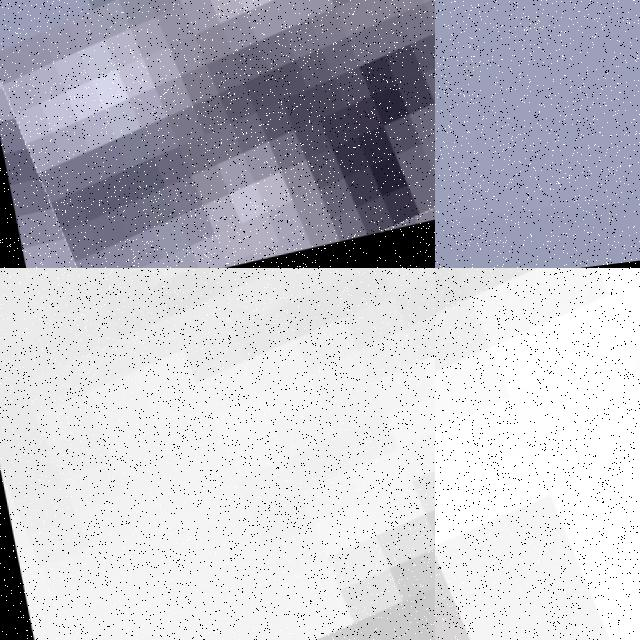drone: (0, 268, 435, 640), (0, 0, 435, 268), (435, 268, 640, 640)
